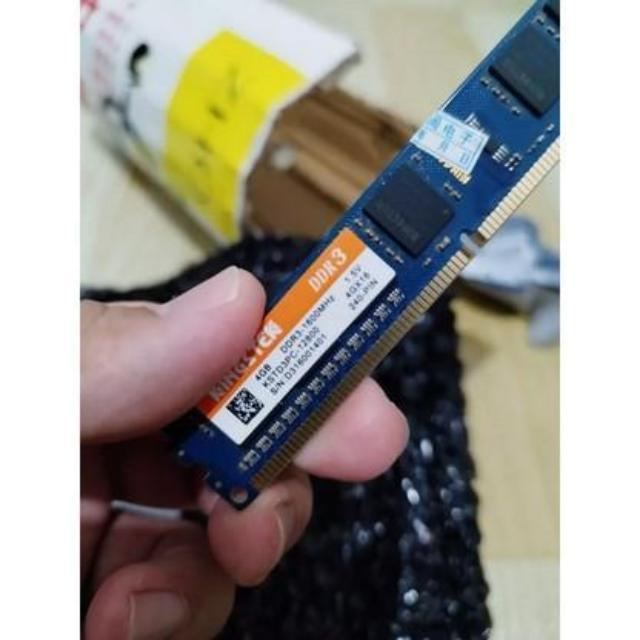RAM: (157, 0, 560, 517)
